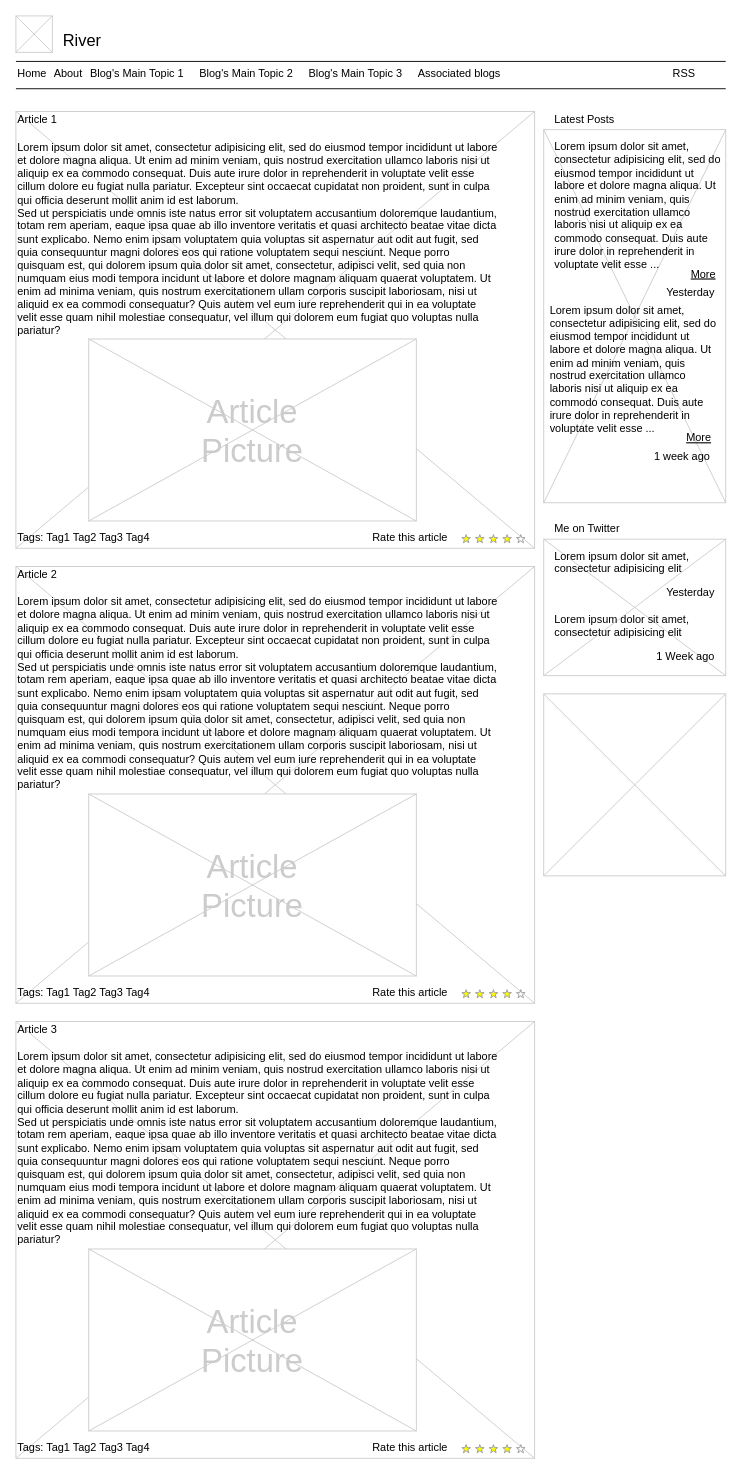
The diagram is 742 pixels wide and 1474 high, and some of its shapes have lost their labels. Each missing label, with the box of its shape:
Blog Logo: (15, 15, 52, 52)
Tag Cloud: (543, 693, 726, 876)
